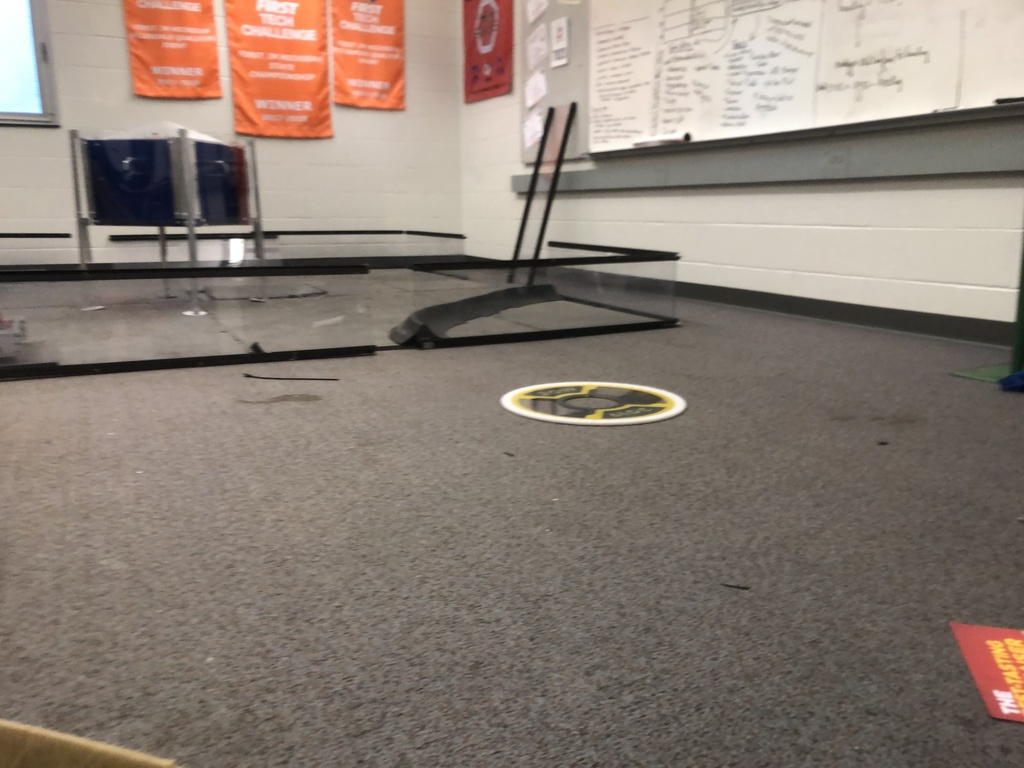hatch_panel: (495, 368, 693, 436)
